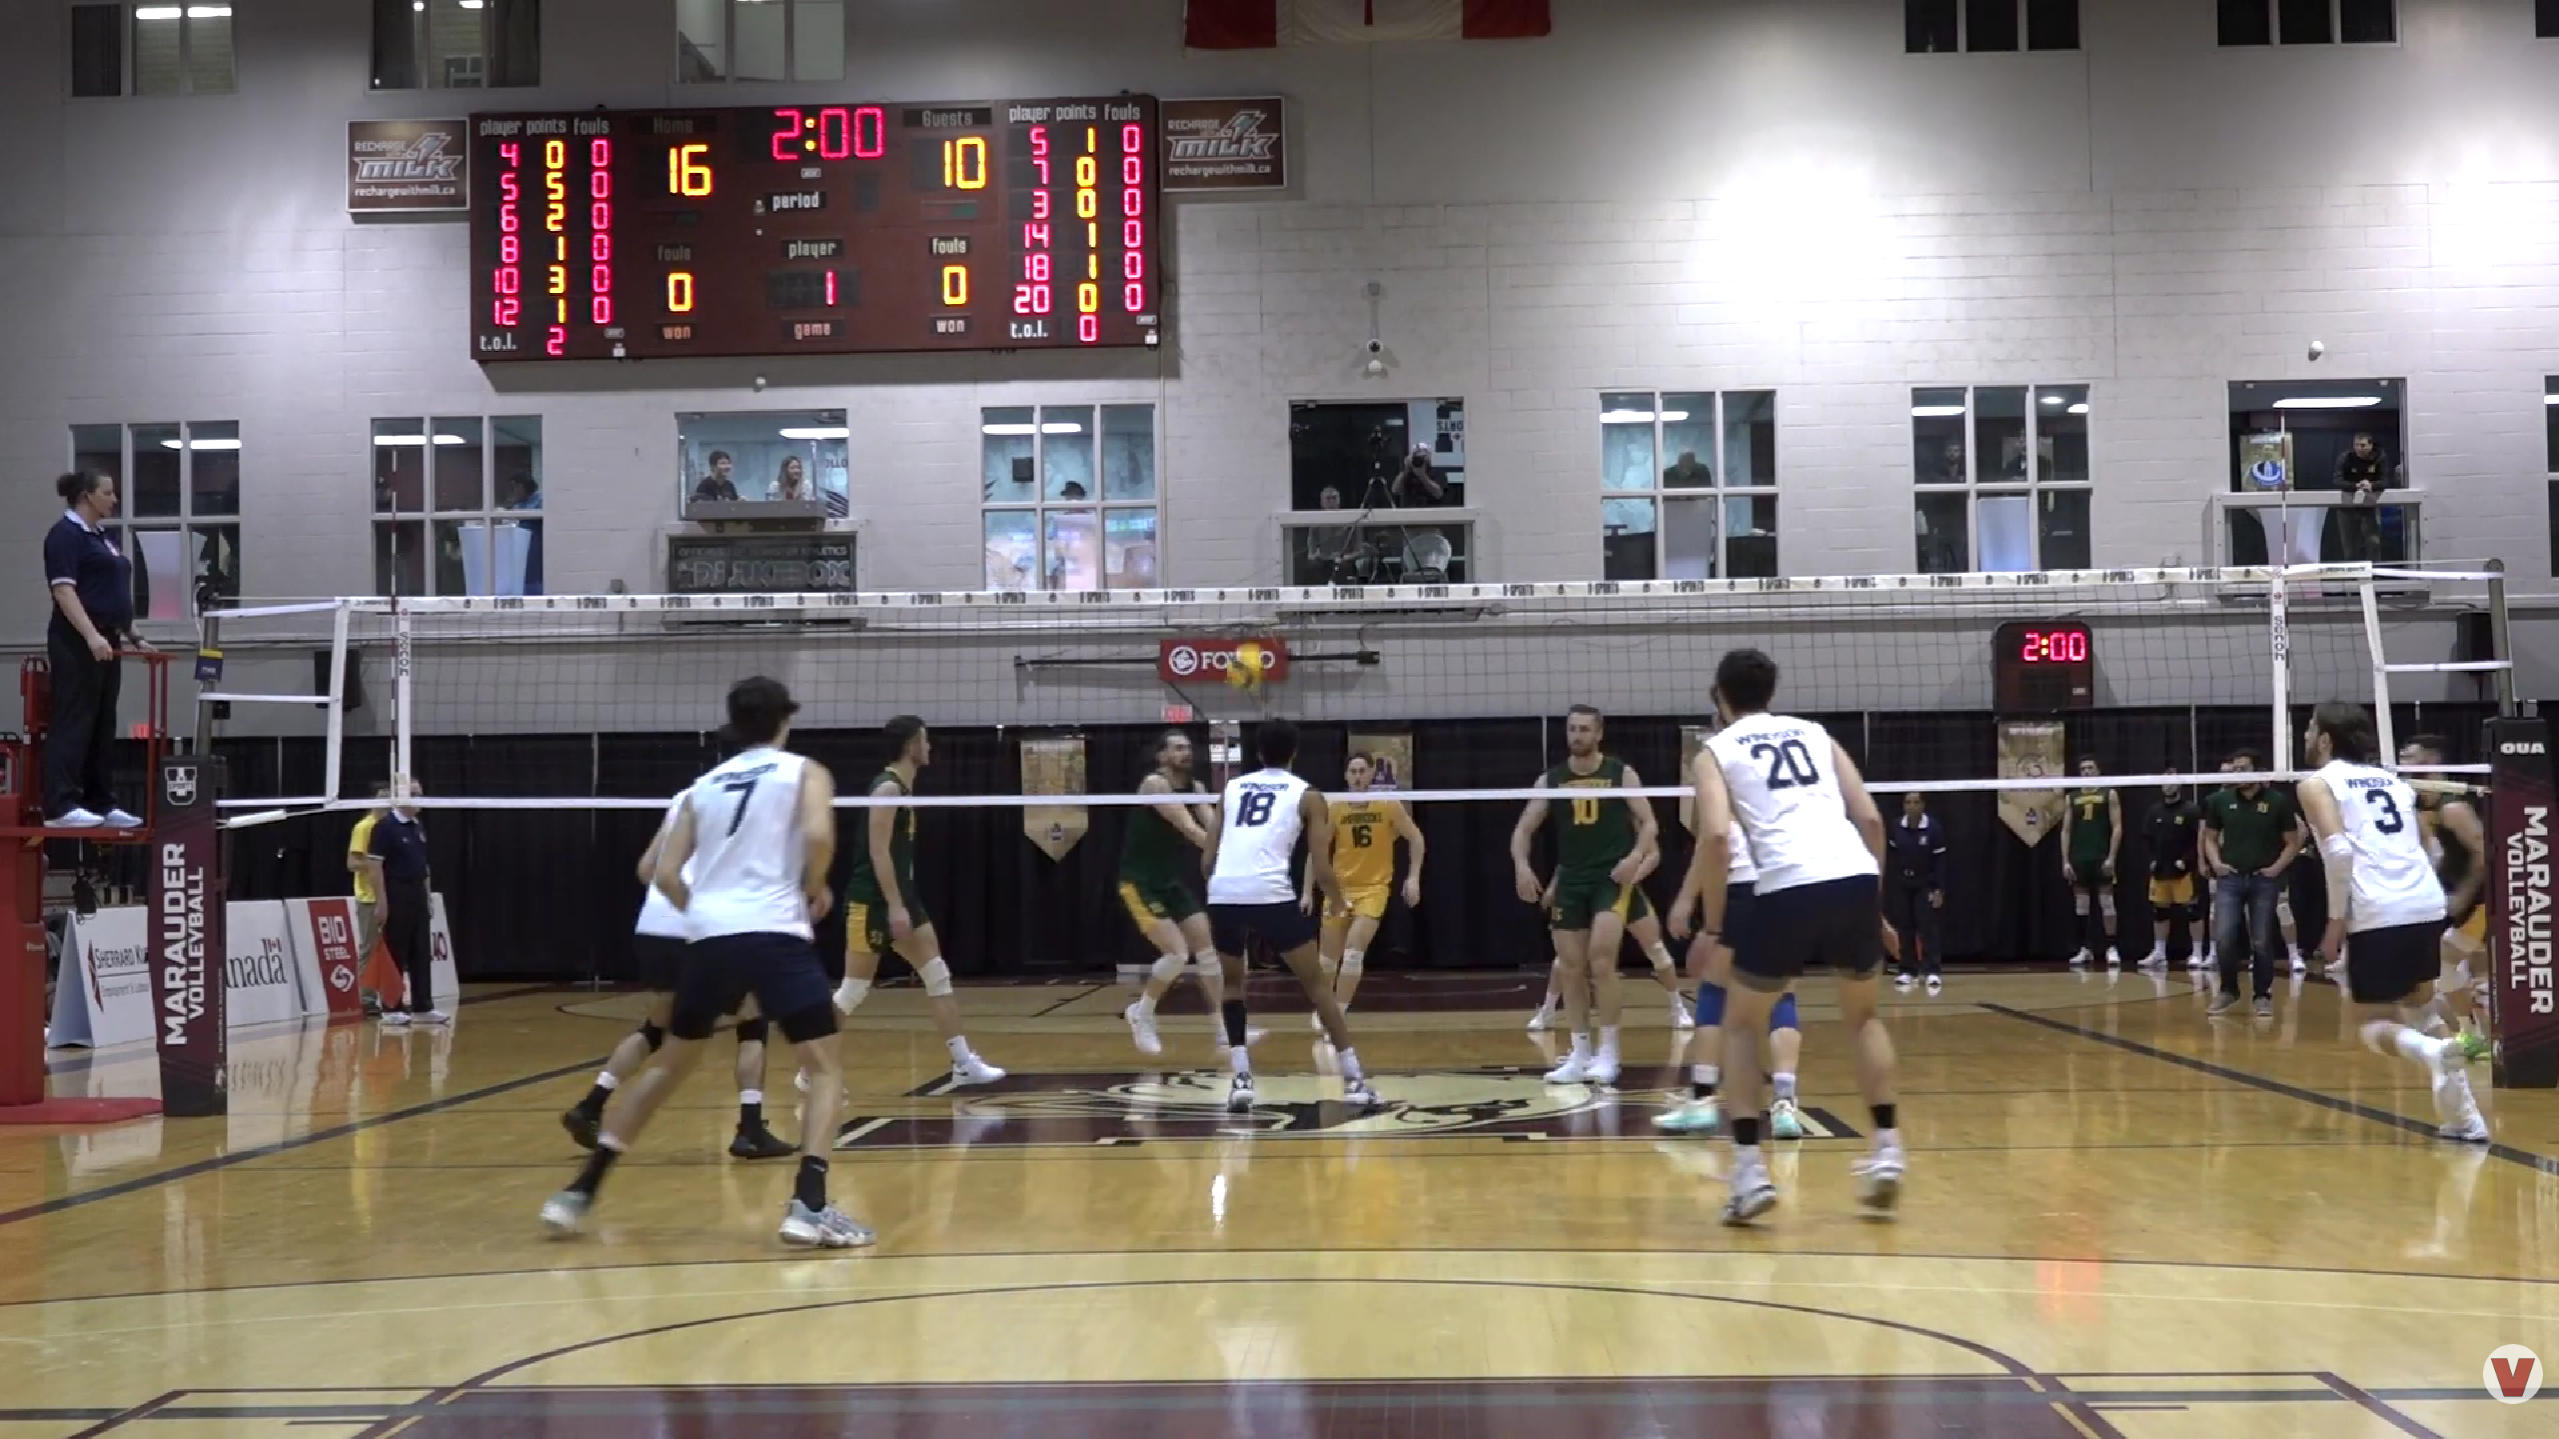Ball: (1223, 640, 1269, 691)
